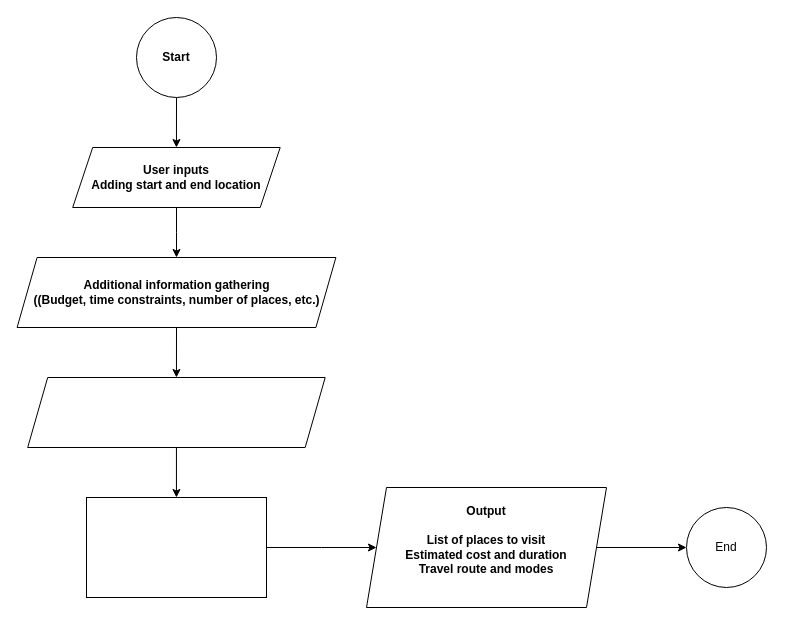
The diagram is 785 pixels wide and 625 high, and some of its shapes have lost their labels. The centre of each missing label's shape, as x and y in pixels:
Processing the ideal search algorithm by analysing user inputs: point (176, 547)
Travel mode (Bus, Train, Flight ): point (176, 412)
